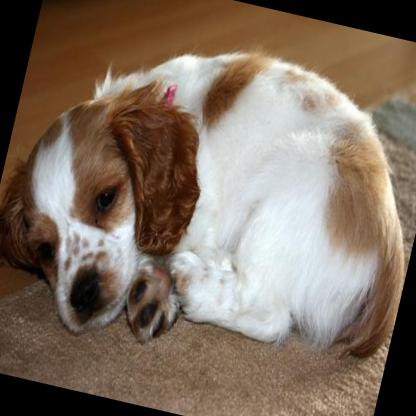cocker_spaniel: (0, 0, 416, 401)
